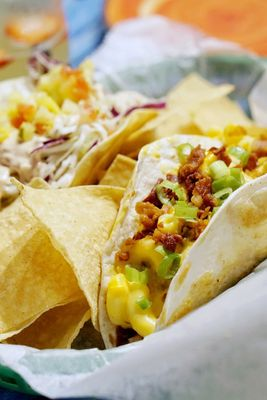burger: (97, 124, 267, 347)
